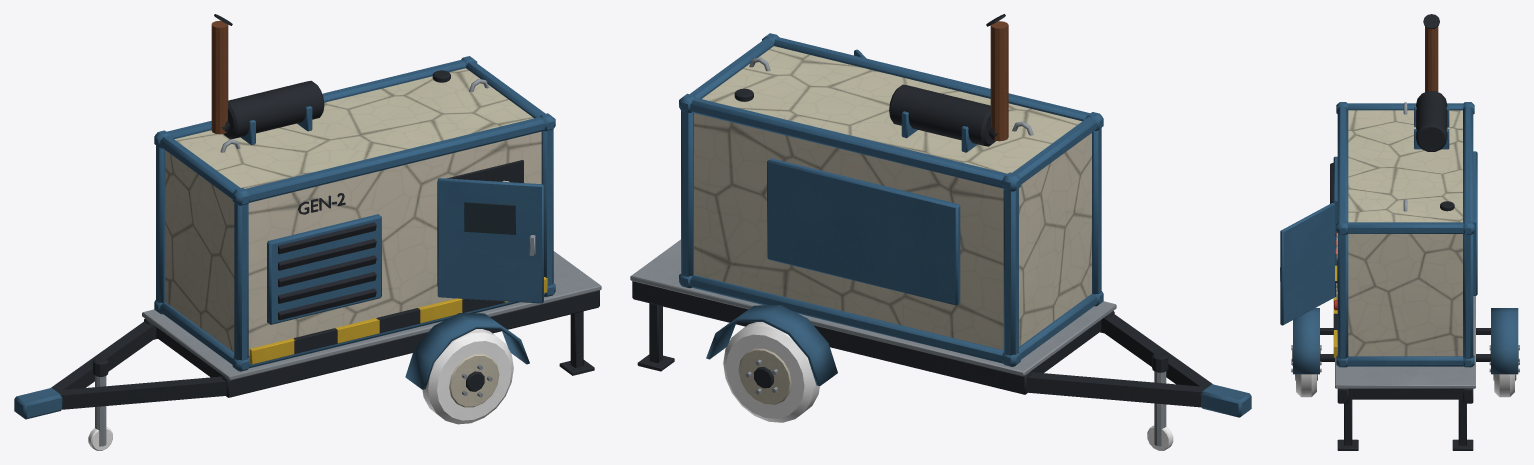
Rendered from generator_trailer.glb.
3 views of the same model, side by side, from view 1: azimuth 30°, elevation 25°; view 2: azimuth 150°, elevation 25°; view 3: azimuth 270°, elevation 25° (orthographic). The views are drawn at different scales.
Parts seen in each view (by area): view 1: generator_trailer; view 2: generator_trailer; view 3: generator_trailer.
Boxes of the visible parts, left/top/right/bottom form: generator_trailer: left=14, top=14, right=601, bottom=450; generator_trailer: left=630, top=14, right=1251, bottom=450; generator_trailer: left=1280, top=14, right=1519, bottom=450.
Bounding box in the file's own units: 4.77 × 3.3 × 2.3.
14 materials, 14 textured.
